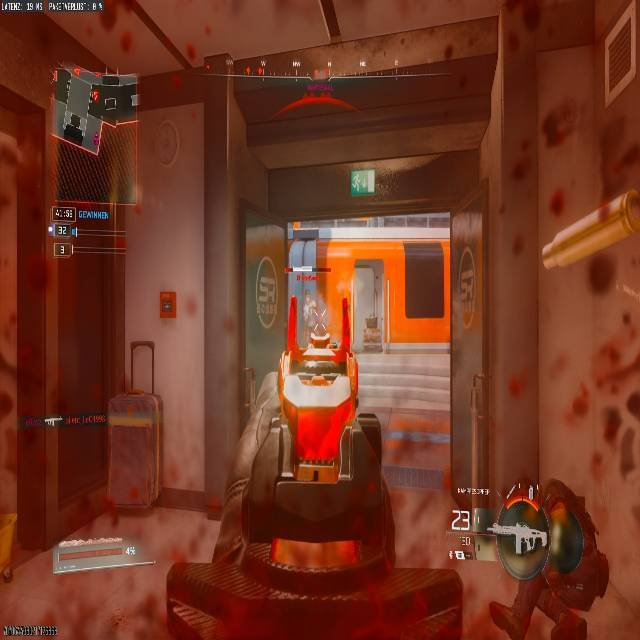player: (221, 285, 395, 640), (424, 482, 614, 640), (295, 281, 324, 340)
